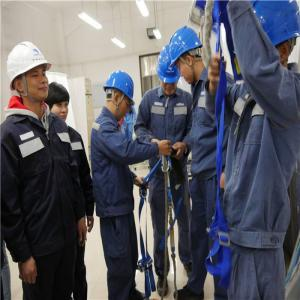blue: (169, 28, 202, 84), (104, 69, 136, 120), (156, 45, 182, 96)
none: (46, 80, 71, 124)
white: (9, 39, 51, 110)
